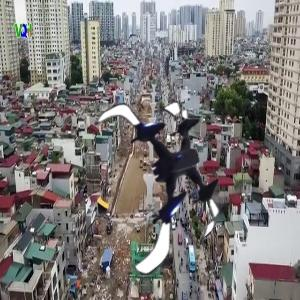drone: (77, 87, 246, 256)
